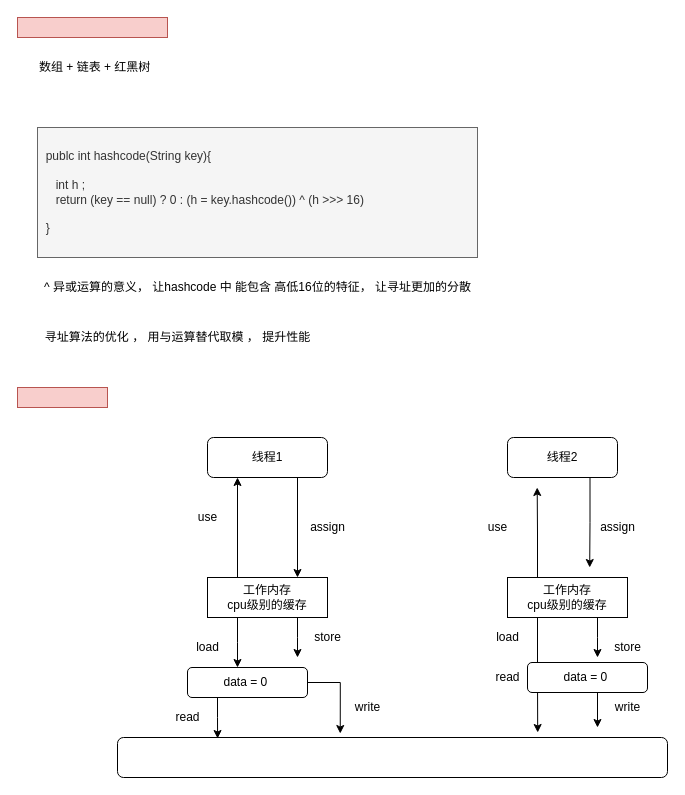
Some shapes in this 685 by 795 pixel diagram are drawn without their labels. Each missing label, with the centre of its shape:
"HashMap的底层数据结构" goes at pixel 92 27.
"java 内存模型" goes at pixel 62 397.
"主内存 data = 0" goes at pixel 392 757.
